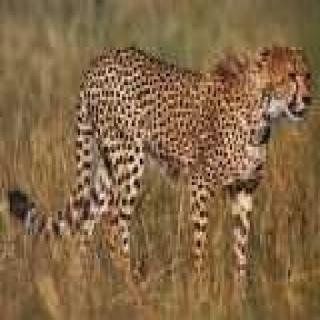Leopard: (60, 43, 320, 320)
